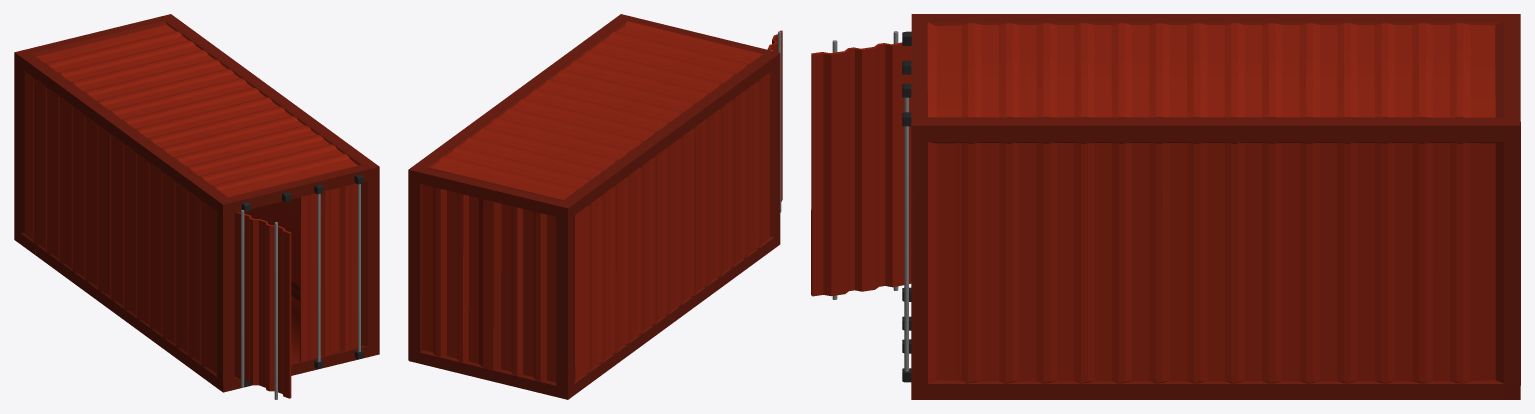
File: Small Red Shipping Container Open.fbx
3 renders of one model, left to right at view 1: azimuth 30°, elevation 25°; view 2: azimuth 150°, elevation 25°; view 3: azimuth 270°, elevation 25°, orthographic. The views are drawn at different scales.
Visible parts, largest first — view 1: Small Red Shipping Container Open; view 2: Small Red Shipping Container Open; view 3: Small Red Shipping Container Open.
Boxes of the visible parts, x1,y1,x2,y2 form: Small Red Shipping Container Open: (14,14,379,399); Small Red Shipping Container Open: (408,14,782,399); Small Red Shipping Container Open: (811,14,1520,399).
Size of the model in its own units: 1062 by 2490 by 928.
Materials: 1 (1 with a texture image).
